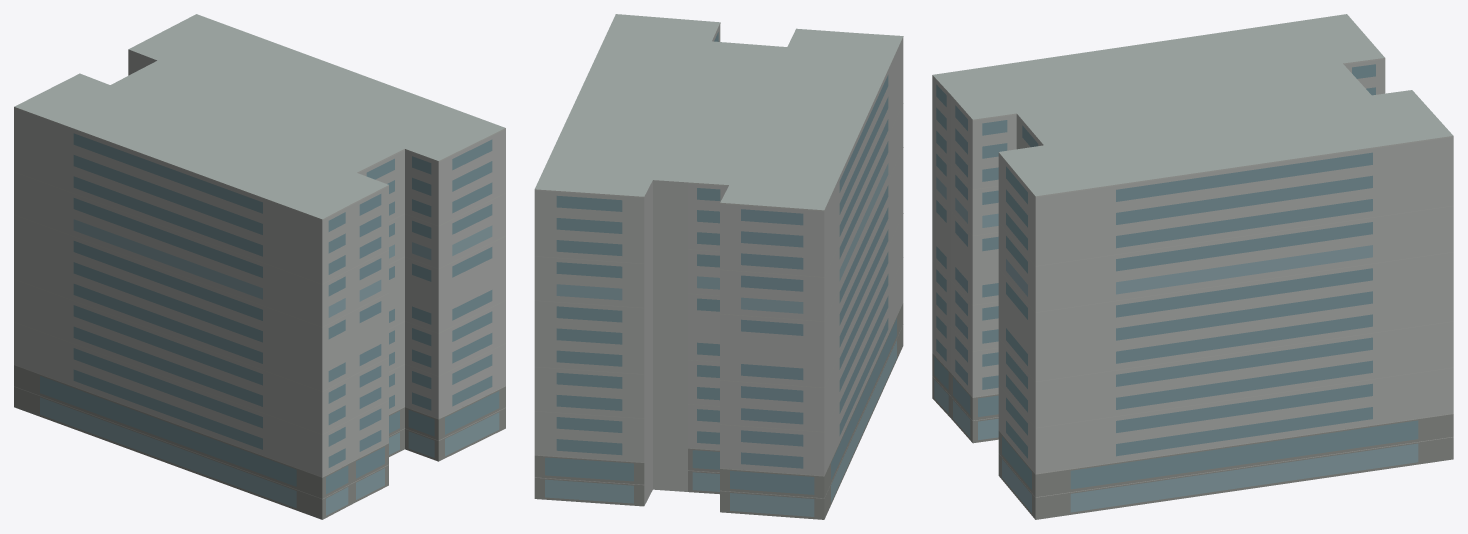
The model's file is survey-upis-32762241.glb.
The picture shows the model from 3 angles, left to right: view 1: azimuth 30°, elevation 25°; view 2: azimuth 150°, elevation 25°; view 3: azimuth 270°, elevation 25°; orthographic projection. The views are drawn at different scales.
Parts seen in each view (by area): view 1: survey-upis-32762241.tmp; view 2: survey-upis-32762241.tmp; view 3: survey-upis-32762241.tmp.
Boxes of the visible parts, box(x1,y1,x2,y2) form: survey-upis-32762241.tmp: box(14, 14, 505, 519); survey-upis-32762241.tmp: box(534, 14, 903, 519); survey-upis-32762241.tmp: box(932, 14, 1453, 519).
Size of the model in its own units: 73.5 by 60.8 by 88.75.
